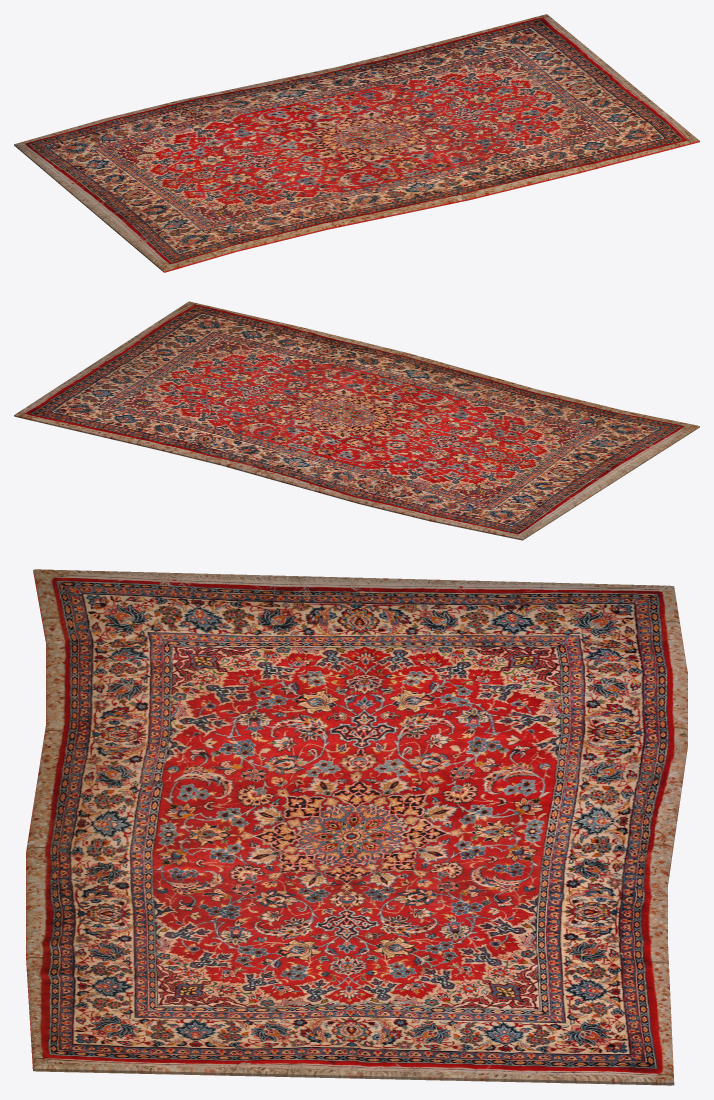
Rendered from carpet.fbx.
3 views of the same model, one above another, from view 1: azimuth 30°, elevation 25°; view 2: azimuth 150°, elevation 25°; view 3: azimuth 270°, elevation 25° (orthographic). The views are drawn at different scales.
Visible parts, largest first — view 1: Mesh; view 2: Mesh; view 3: Mesh.
Part boxes in pixels (bbox=[...]): Mesh: bbox=[14, 14, 699, 272]; Mesh: bbox=[14, 301, 699, 540]; Mesh: bbox=[26, 569, 687, 1085].
Size of the model in its own units: 7299 by 80 by 3980.
